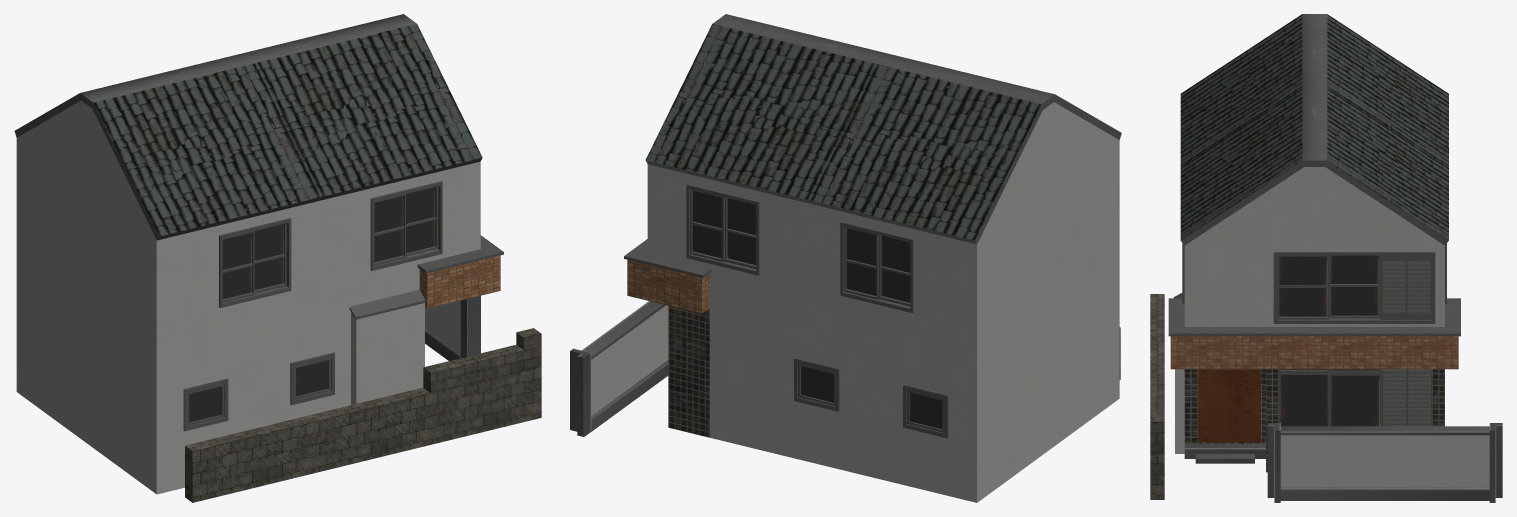
Rendered from home-transformed.glb.
The picture shows the model from 3 angles, left to right: view 1: azimuth 30°, elevation 25°; view 2: azimuth 150°, elevation 25°; view 3: azimuth 270°, elevation 25°; orthographic projection. The views are drawn at different scales.
Parts seen in each view (by area): view 1: JapaneseResidentialHome_01; view 2: JapaneseResidentialHome_01; view 3: JapaneseResidentialHome_01.
Boxes of the visible parts, x1,y1,x2,y2 form: JapaneseResidentialHome_01: (14,14,541,502); JapaneseResidentialHome_01: (570,14,1121,502); JapaneseResidentialHome_01: (1150,14,1502,502).
Size of the model in its own units: 921 by 816 by 811.
1 material, 1 textured.
